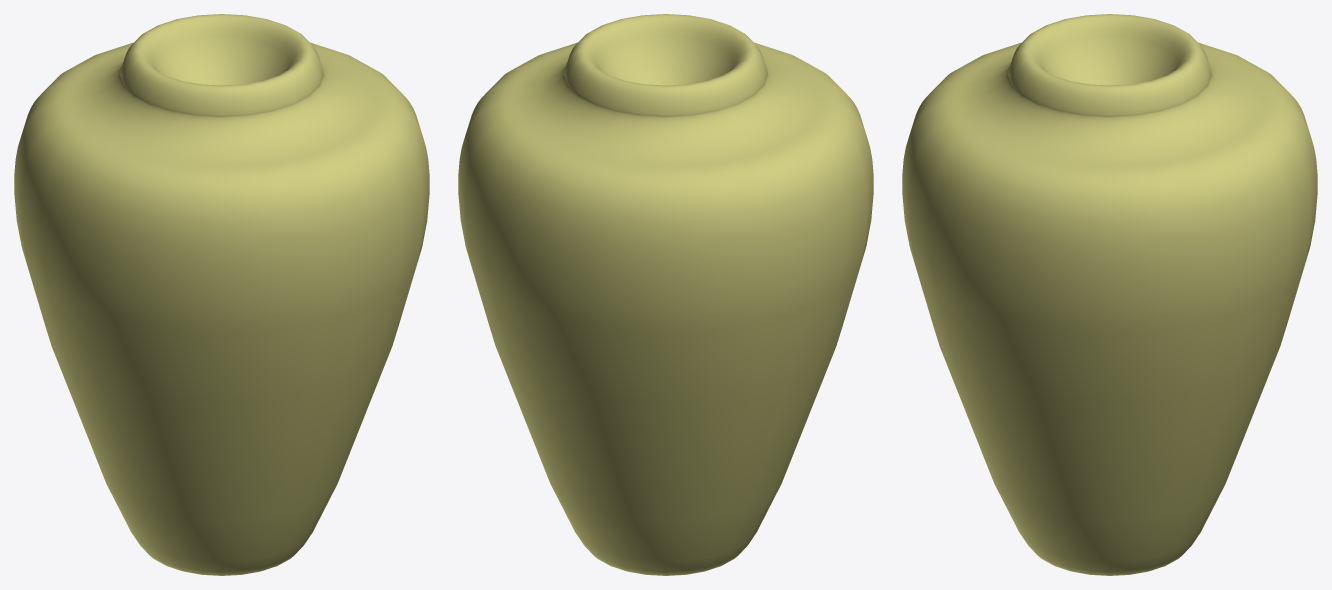
File: vase number 3.fbx
The picture shows the model from 3 angles, left to right: view 1: azimuth 30°, elevation 25°; view 2: azimuth 150°, elevation 25°; view 3: azimuth 270°, elevation 25°; orthographic projection.
Visible parts, largest first — view 1: Lathe; view 2: Lathe; view 3: Lathe.
Boxes of the visible parts, bbox=[...] form: Lathe: bbox=[14, 14, 429, 575]; Lathe: bbox=[458, 14, 873, 575]; Lathe: bbox=[902, 14, 1317, 575].
Size of the model in its own units: 273 by 359 by 273.
